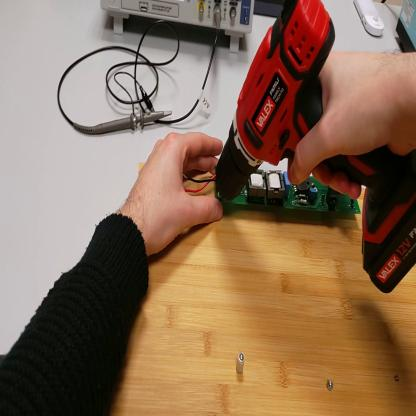electric screwdriver: (216, 1, 416, 294)
hand: (289, 49, 416, 193), (127, 132, 222, 258)
high voltage board: (184, 168, 362, 219)
oscilloscope: (101, 2, 257, 57)
oscilloscope probe tip: (94, 111, 185, 135)
welder station: (396, 4, 416, 50)
working area: (107, 162, 416, 416)
